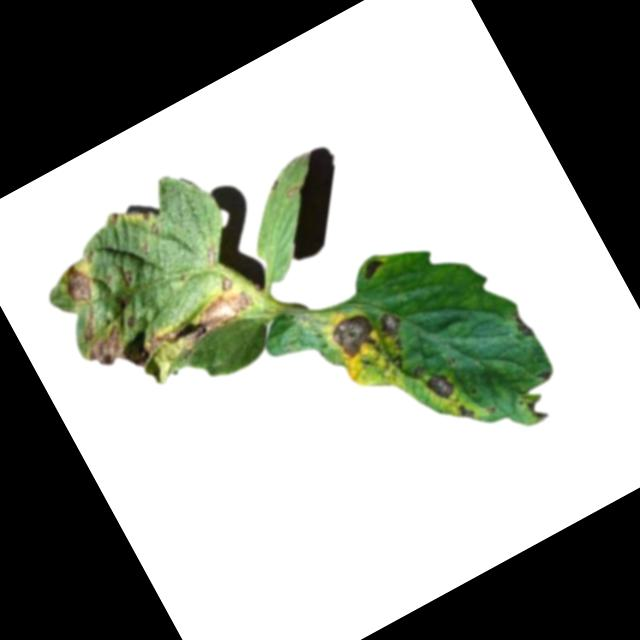Early_blight: (139, 284, 261, 371), (67, 303, 130, 373), (329, 309, 381, 361), (56, 259, 101, 311), (421, 367, 459, 407), (508, 309, 537, 343), (378, 310, 405, 340), (526, 395, 553, 425), (360, 257, 389, 283), (454, 399, 478, 426), (537, 366, 555, 386), (217, 276, 236, 294), (121, 271, 137, 288)
